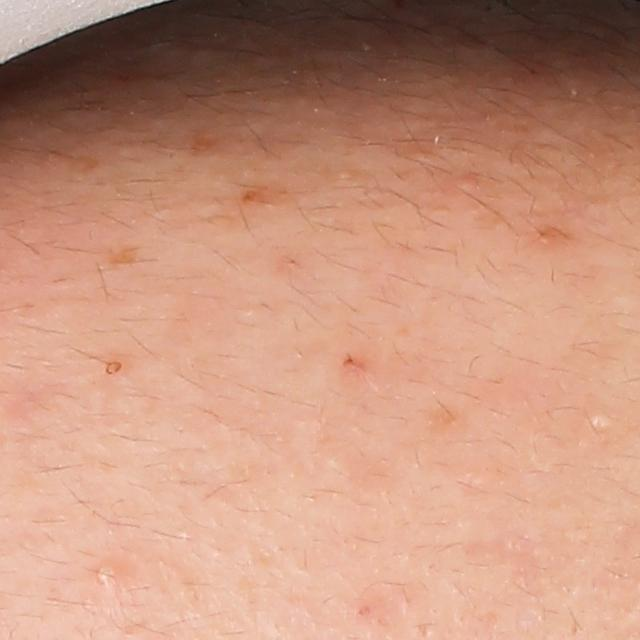comedo: (100, 357, 124, 377)
